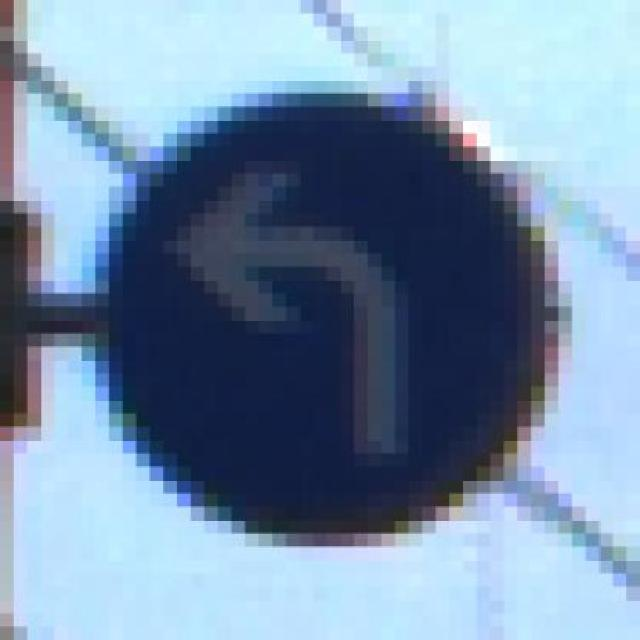Turn left ahead: (110, 53, 572, 561)
